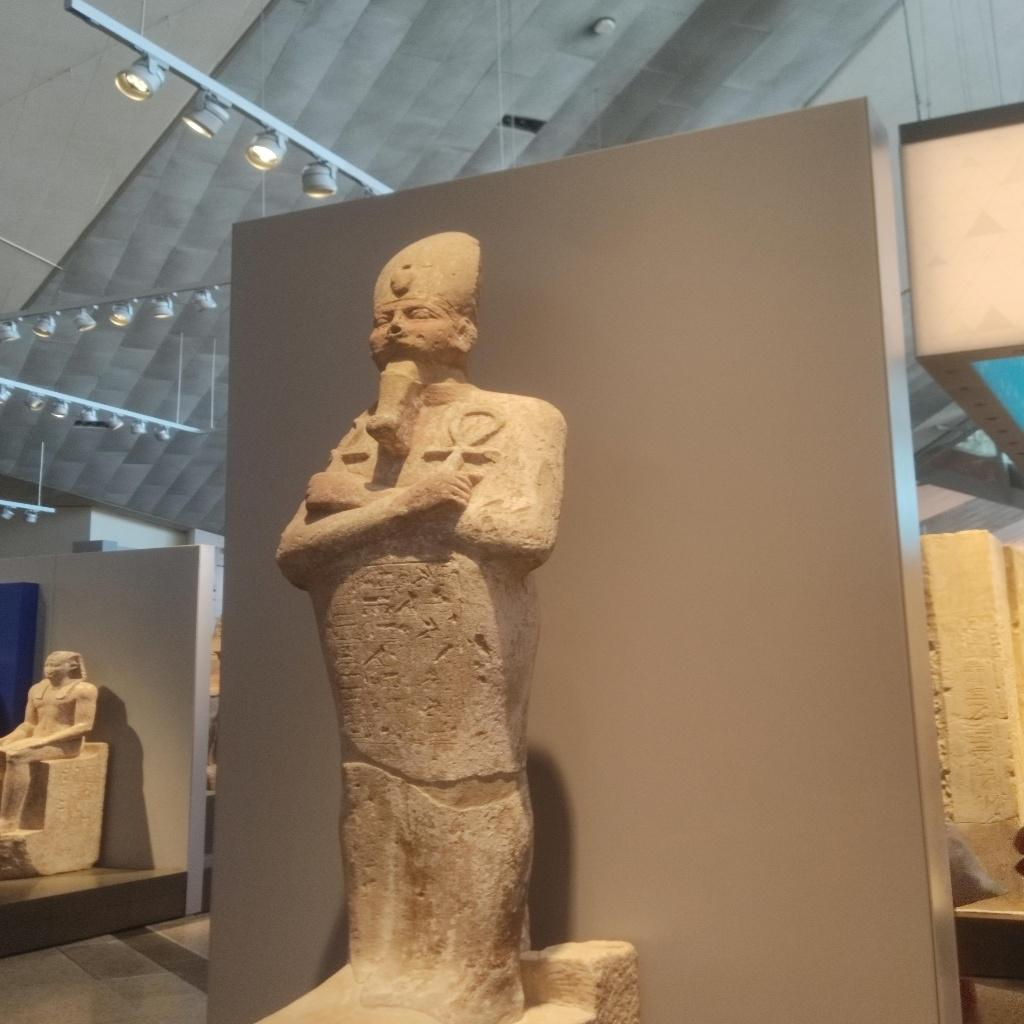Statue of Mentuhotep II: (271, 219, 615, 1015)
